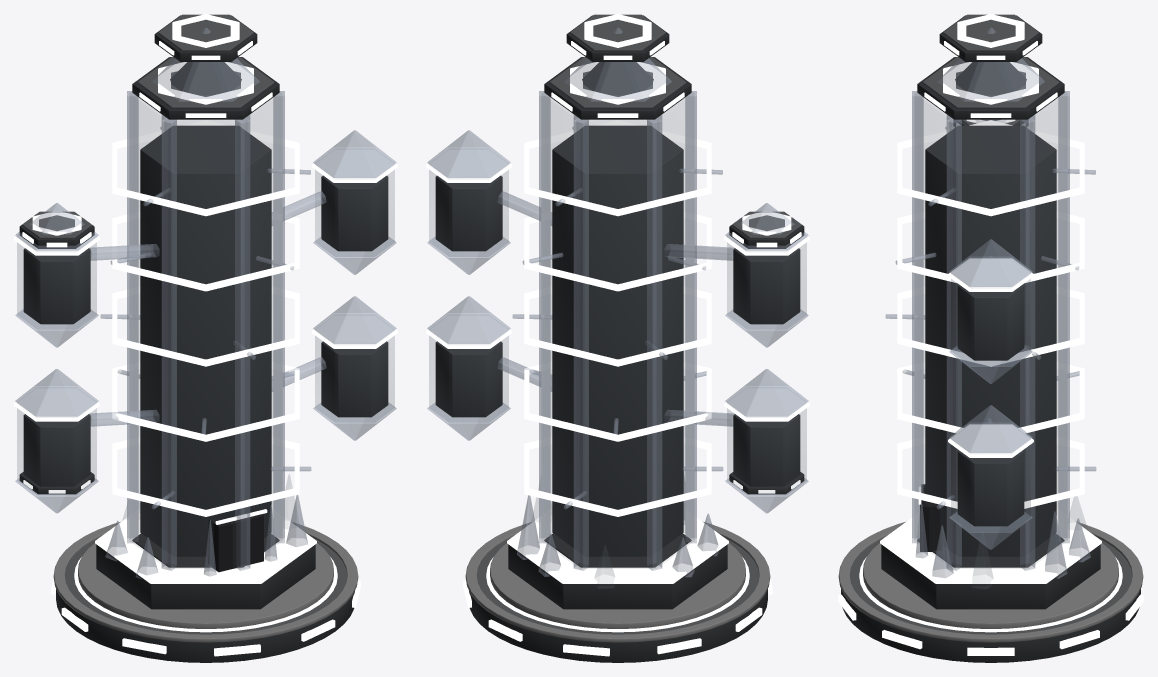
The model's file is Skin_Crystal_T4.glb.
The picture shows the model from 3 angles, left to right: view 1: azimuth 30°, elevation 25°; view 2: azimuth 150°, elevation 25°; view 3: azimuth 270°, elevation 25°; orthographic projection.
Parts seen in each view (by area): view 1: Skin_Crystal_T4; view 2: Skin_Crystal_T4; view 3: Skin_Crystal_T4.
Boxes of the visible parts, x1,y1,x2,y2 form: Skin_Crystal_T4: [14, 14, 397, 662]; Skin_Crystal_T4: [426, 14, 809, 662]; Skin_Crystal_T4: [838, 14, 1143, 662].
Size of the model in its own units: 5.72 by 8.63 by 4.17.
